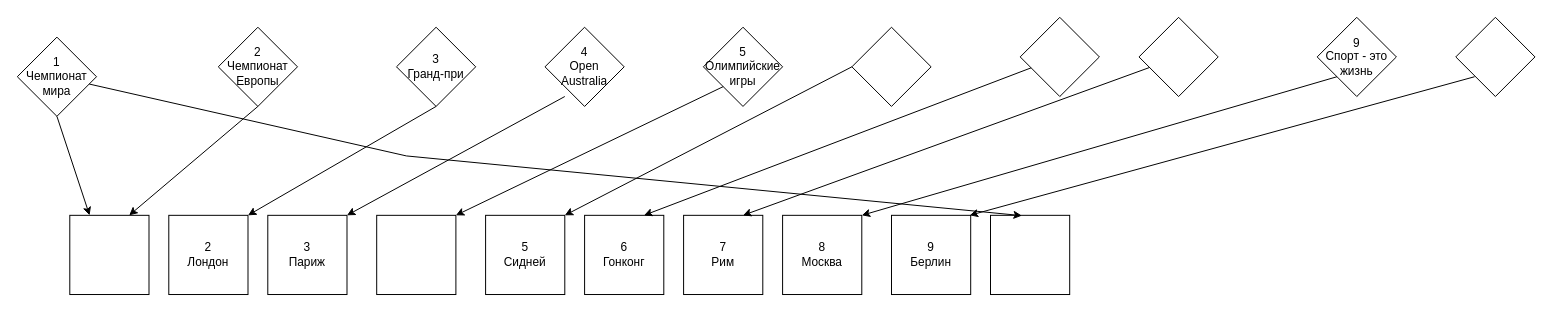
The diagram is 1552 pixels wide and 312 high, and some of its shapes have lost their labels. The centre of each missing label's shape, as x and y in pixels:
"1 Нью-Йорк" goes at point (109, 254).
"10 Азбука спорта" goes at point (1495, 56).
"10 Амстердам" goes at point (1030, 254).
"4 Токио" goes at point (416, 254).
"6 Лига чемпиона" goes at point (891, 66).
"7 Паралимпиада" goes at point (1059, 56).
"8 Физкульт-привет" goes at point (1178, 56).
